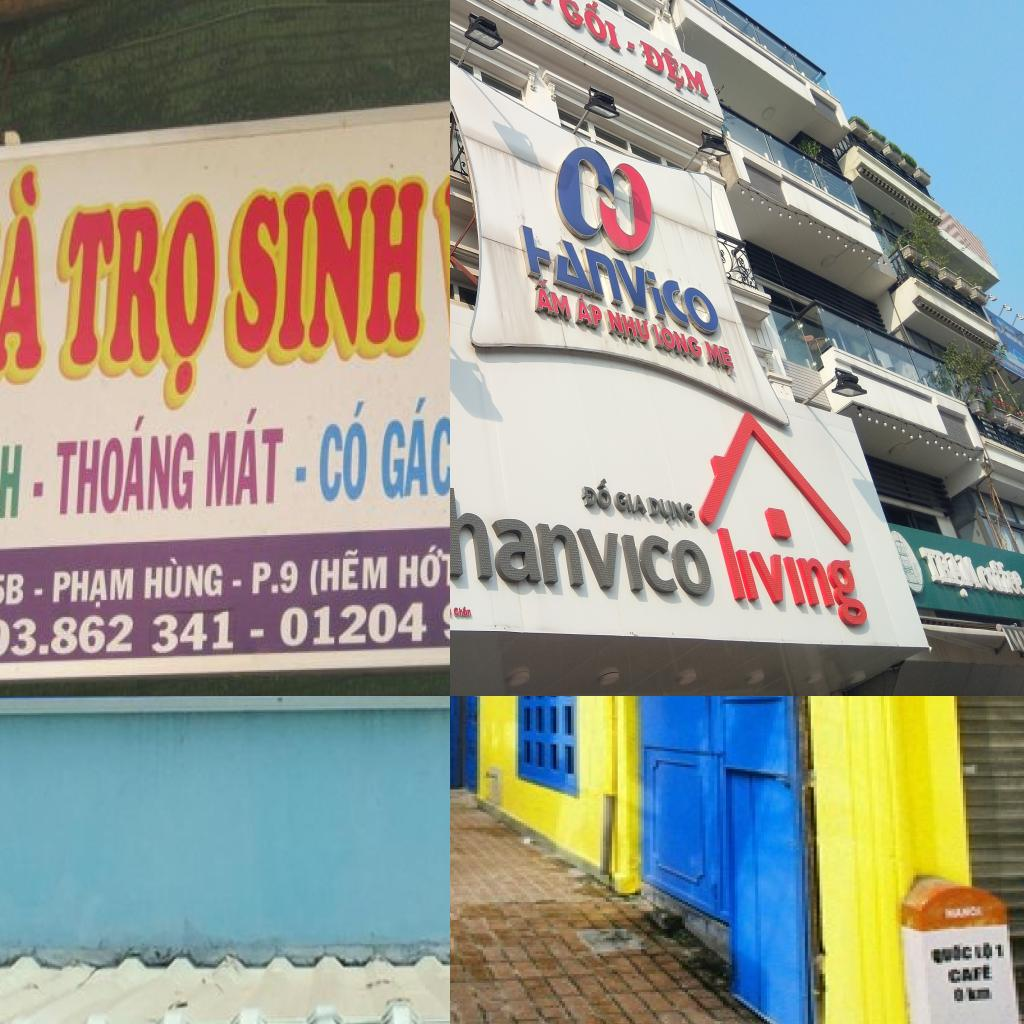text: (230, 178, 428, 358), (450, 480, 717, 603), (66, 195, 219, 402), (715, 517, 873, 630), (54, 414, 197, 518), (581, 242, 723, 344), (0, 606, 238, 663), (0, 166, 46, 384), (204, 404, 286, 511), (380, 393, 450, 504), (638, 32, 714, 112), (317, 397, 371, 508), (308, 547, 392, 600), (51, 564, 137, 614), (142, 554, 225, 603), (556, 0, 626, 58), (918, 542, 985, 599), (0, 424, 28, 524), (396, 542, 450, 593), (650, 320, 706, 366), (531, 274, 574, 324), (604, 304, 653, 346), (251, 557, 302, 597), (644, 493, 700, 527), (703, 339, 739, 381), (574, 288, 606, 334), (925, 942, 977, 970), (577, 473, 614, 511), (945, 960, 998, 986), (0, 571, 28, 613), (951, 983, 995, 1008), (613, 487, 649, 517), (942, 904, 990, 922), (972, 940, 998, 965), (992, 940, 1010, 963), (452, 605, 472, 619)
